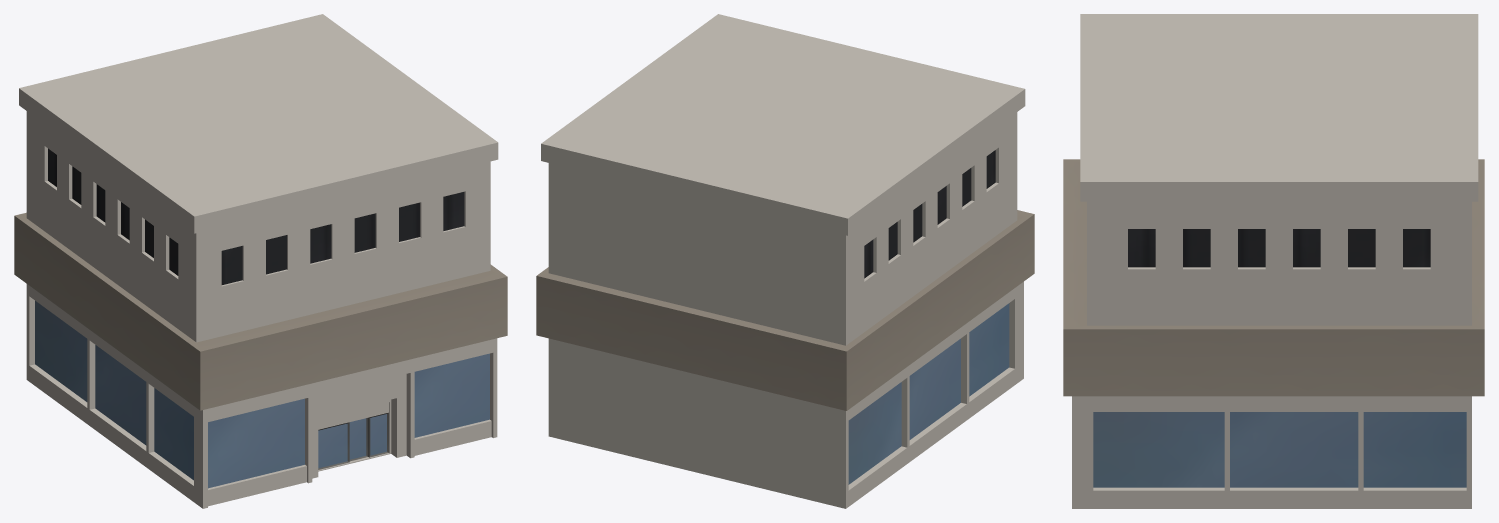
The model's file is Bld_Building_B.fbx.
3 renders of one model, left to right at view 1: azimuth 30°, elevation 25°; view 2: azimuth 150°, elevation 25°; view 3: azimuth 270°, elevation 25°, orthographic. The views are drawn at different scales.
Visible parts, largest first — view 1: Bld_Building_B; view 2: Bld_Building_B; view 3: Bld_Building_B.
Part boxes in pixels (<box>): Bld_Building_B: <box>14,14,507,508</box>; Bld_Building_B: <box>536,14,1034,508</box>; Bld_Building_B: <box>1063,14,1484,508</box>.
Size of the model in its own units: 1880 by 1700 by 1970.
